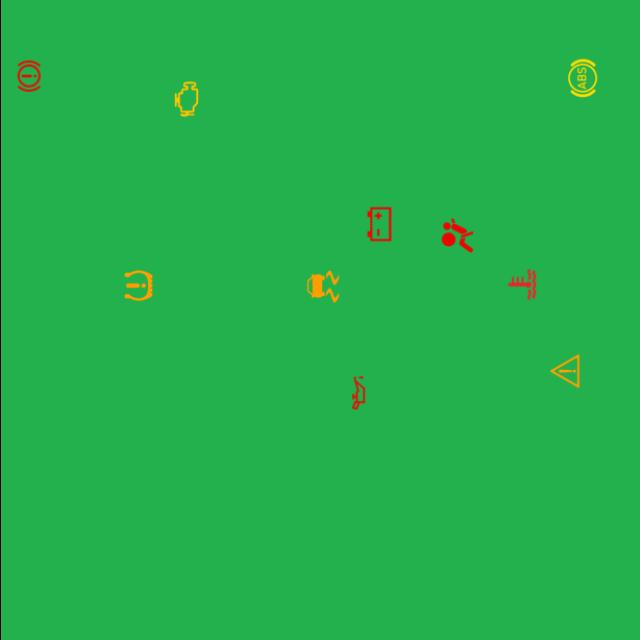Anti Lock Braking System: (560, 57, 602, 99)
Braking System Issue: (7, 55, 49, 97)
Charging System Issue: (358, 203, 400, 245)
Check Engine: (164, 78, 207, 120)
Electronic Stability Problem -ESP-: (301, 266, 343, 308)
Engine Overheating Warning Light: (500, 264, 542, 306)
Low Engine Oil Warning Light: (336, 372, 378, 414)
Low Tire Pressure Warning Light: (116, 264, 158, 306)
Master warning light: (543, 350, 585, 392)
SRS-Airbag: (436, 214, 478, 256)
